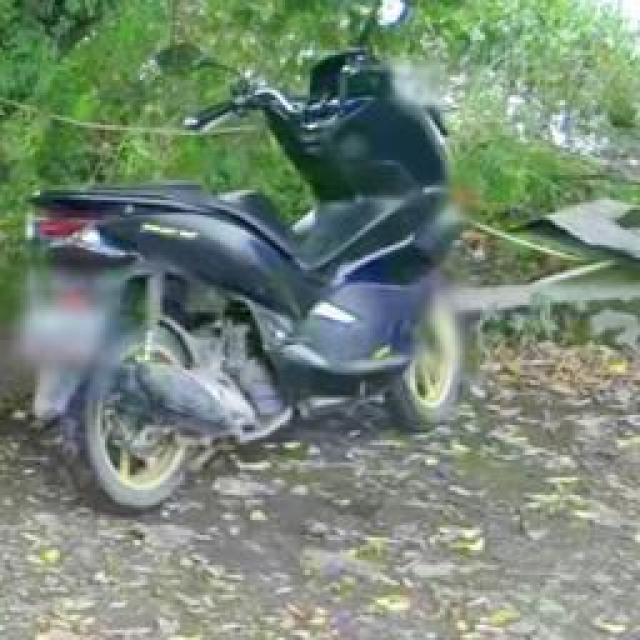Motor: (18, 5, 470, 512)
